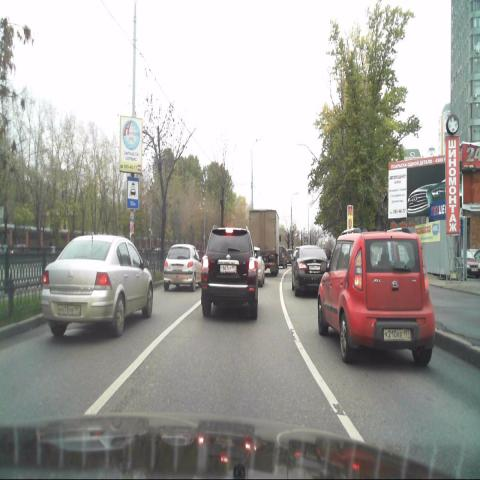7_5: (127, 176, 139, 209)
